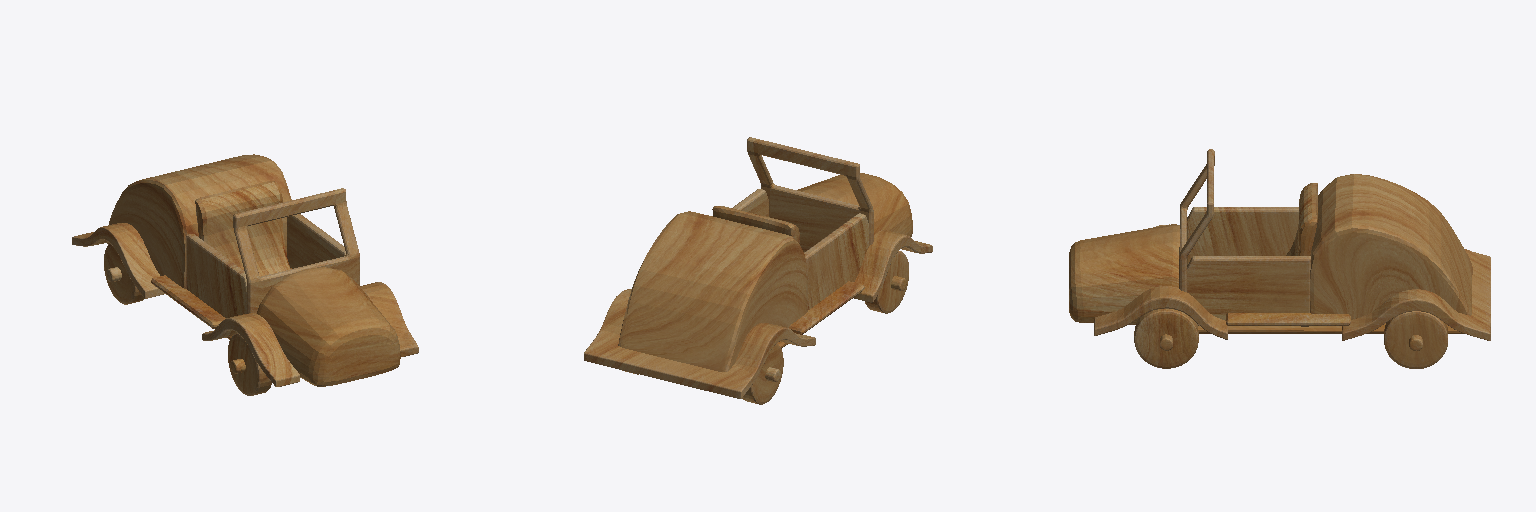
3 views of the same model, side by side, from view 1: azimuth 30°, elevation 25°; view 2: azimuth 150°, elevation 25°; view 3: azimuth 270°, elevation 25° (orthographic).
Visible parts, largest first — view 1: object_0_Mesh_0; view 2: object_0_Mesh_0; view 3: object_0_Mesh_0.
Boxes of the visible parts, box(x1,y1,x2,y2) form: object_0_Mesh_0: box(72, 154, 418, 395); object_0_Mesh_0: box(584, 137, 932, 404); object_0_Mesh_0: box(1069, 149, 1490, 368).
Bounding box in the file's own units: 2.98 × 2.86 × 6.85.
Materials: 1 (1 with a texture image).